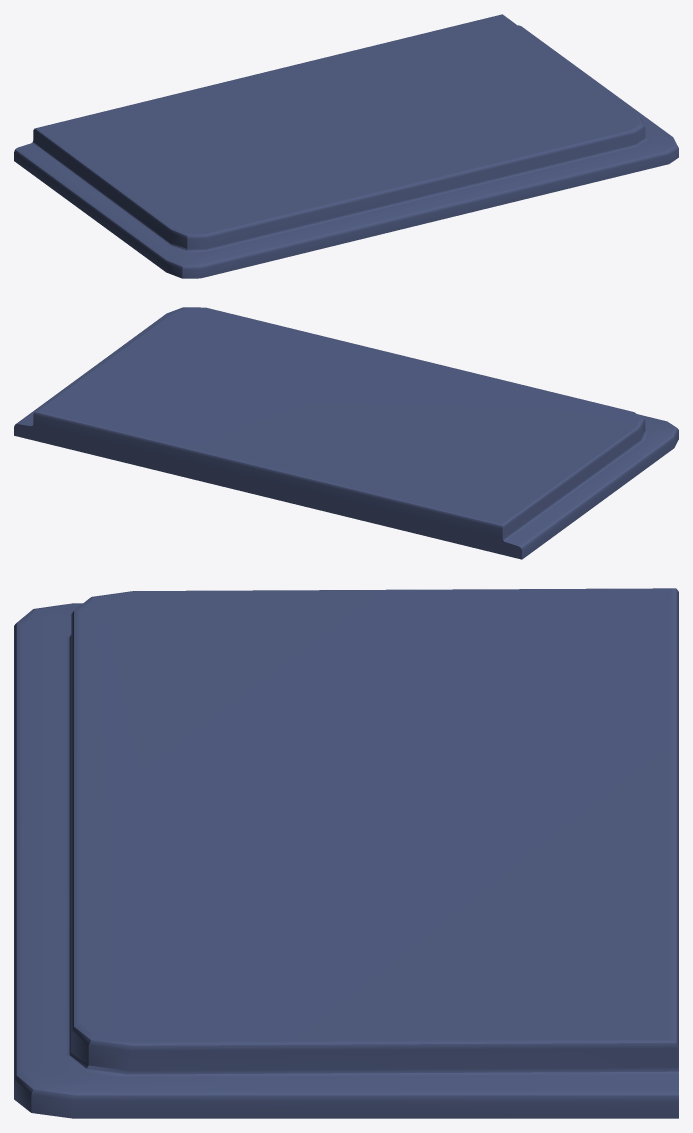
Rendered from FloorPlatform.fbx.
The picture shows the model from 3 angles, top to bottom: view 1: azimuth 30°, elevation 25°; view 2: azimuth 150°, elevation 25°; view 3: azimuth 270°, elevation 25°; orthographic projection. The views are drawn at different scales.
Visible parts, largest first — view 1: FloorPlatform; view 2: FloorPlatform; view 3: FloorPlatform.
Part boxes in pixels (left/top/right/bottom): FloorPlatform: left=14, top=14, right=678, bottom=278; FloorPlatform: left=14, top=307, right=678, bottom=559; FloorPlatform: left=14, top=588, right=678, bottom=1118.
Bounding box in the file's own units: 21.06 × 1.15 × 11.99.
